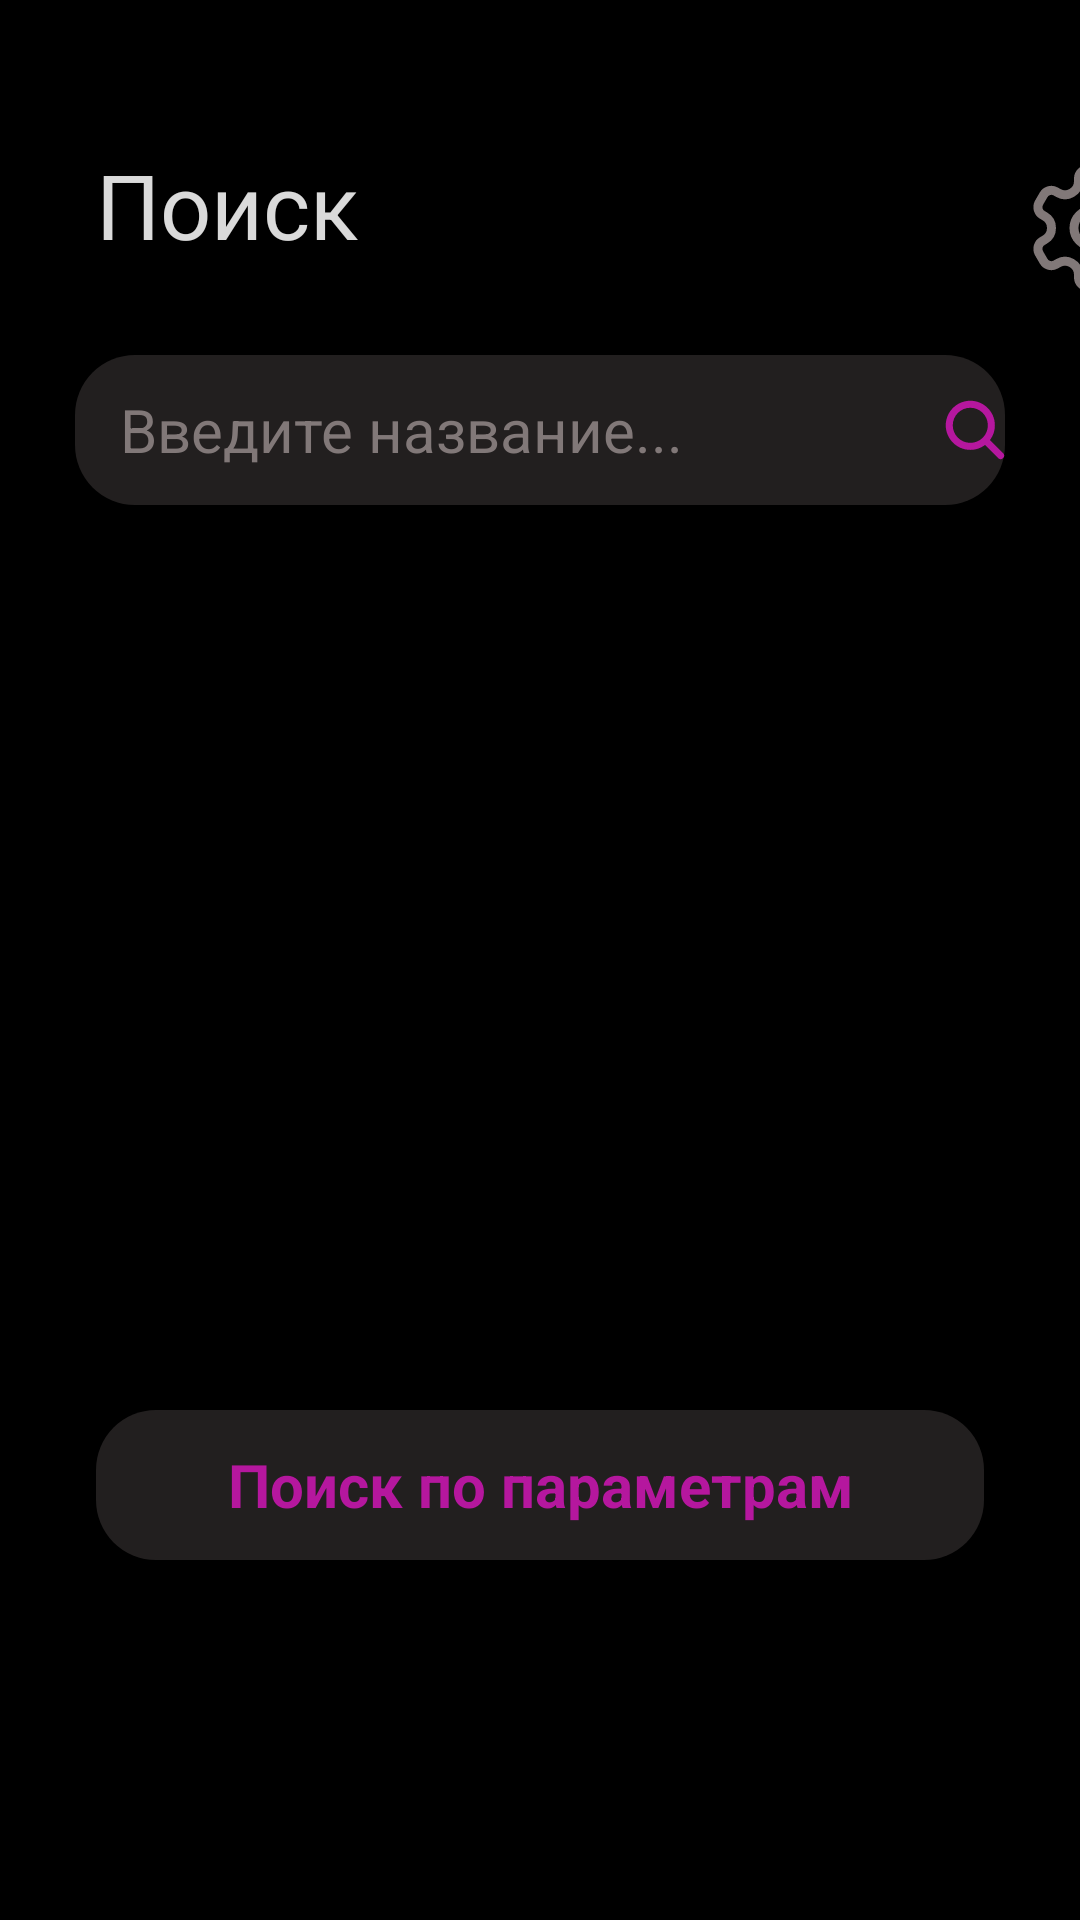

Icon bounding boxes for this 1080×1920 phone screenshot, format {"left": x1, "top": y1, "right": x2, "bottom": y2}:
search: {"left": 945, "top": 394, "right": 1011, "bottom": 466}
